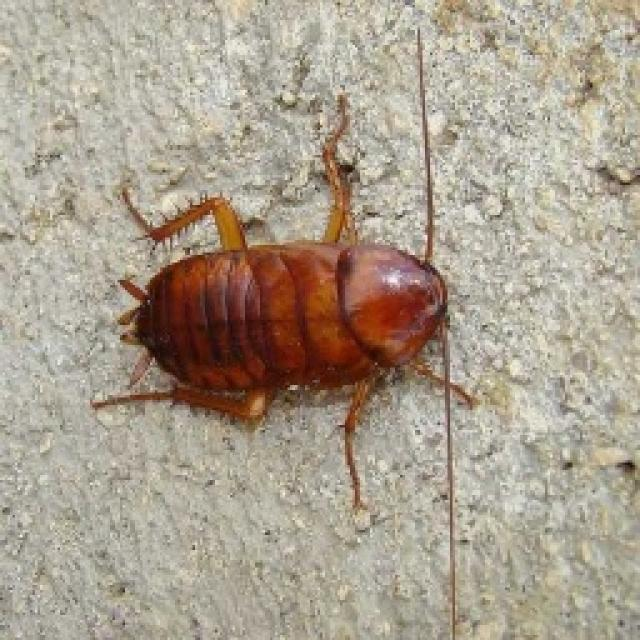cockroach: (133, 238, 450, 396)
